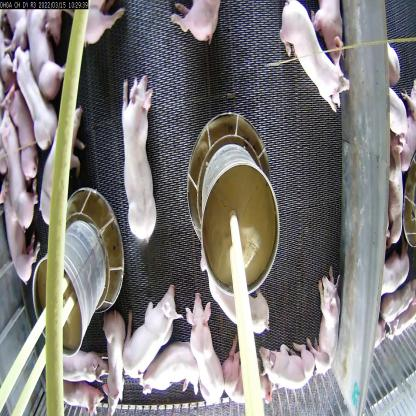Pig: (283, 0, 350, 105), (38, 115, 91, 232), (122, 281, 183, 379), (197, 262, 268, 341), (121, 73, 152, 249), (141, 336, 208, 403), (0, 182, 37, 298), (0, 112, 37, 226), (190, 307, 228, 415), (12, 44, 50, 140), (48, 333, 108, 392), (18, 89, 46, 199), (264, 336, 314, 397), (314, 270, 347, 362), (220, 348, 272, 405), (175, 0, 224, 56), (103, 316, 131, 414), (26, 1, 60, 78)
